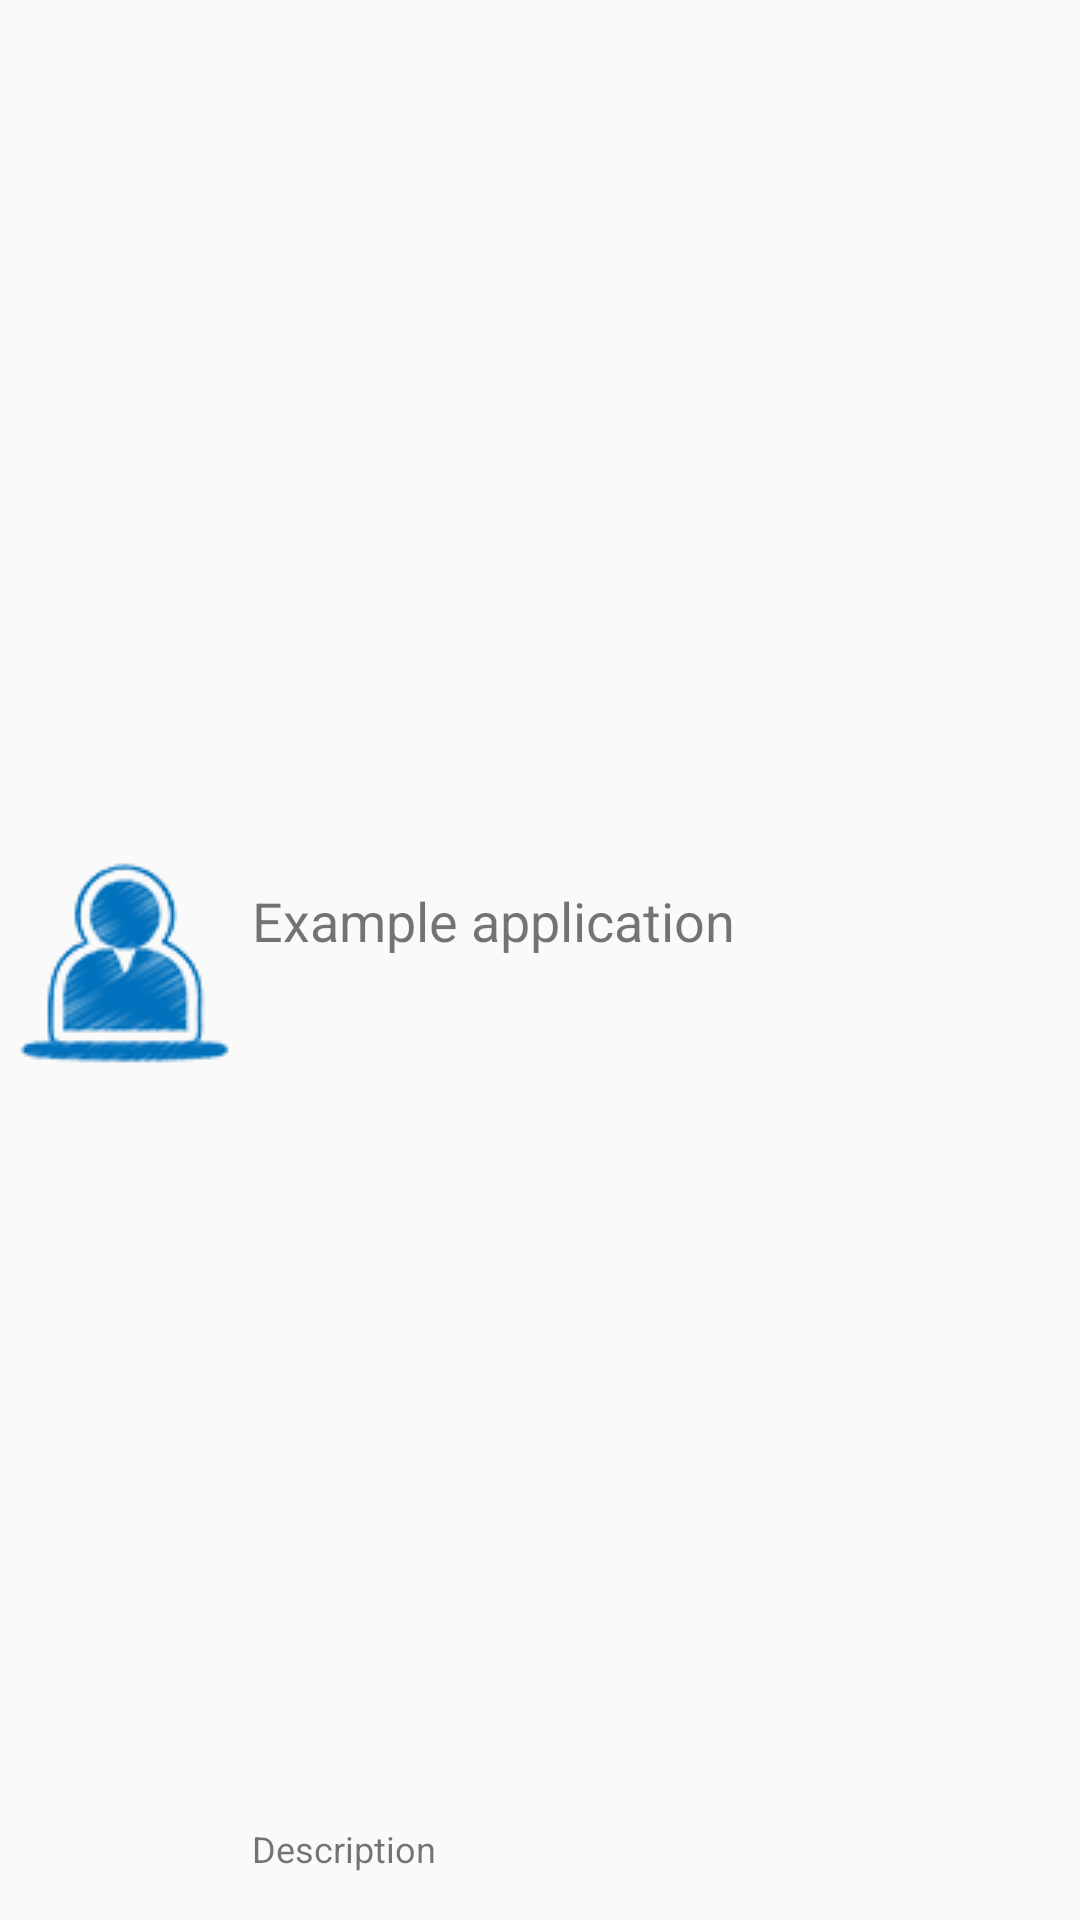

Where to tap for icons on this 1080px×1920px app screen, as (x=x, y=y):
user: (x=124, y=963)
